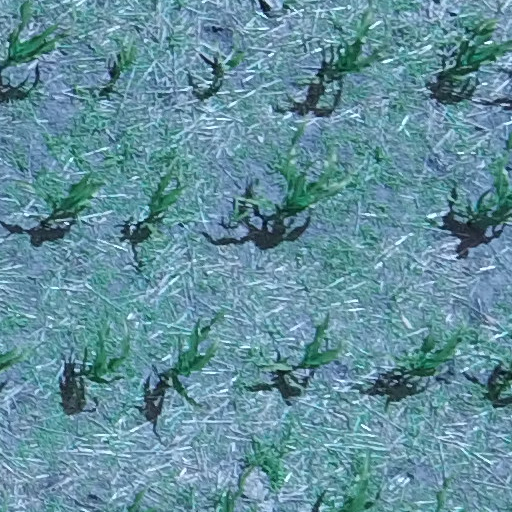planta: (235, 147, 348, 219), (317, 10, 393, 87), (255, 313, 344, 372), (164, 320, 215, 406), (15, 173, 105, 219), (391, 329, 460, 376), (82, 331, 129, 383), (147, 172, 185, 216), (111, 37, 136, 80), (214, 45, 245, 78)
